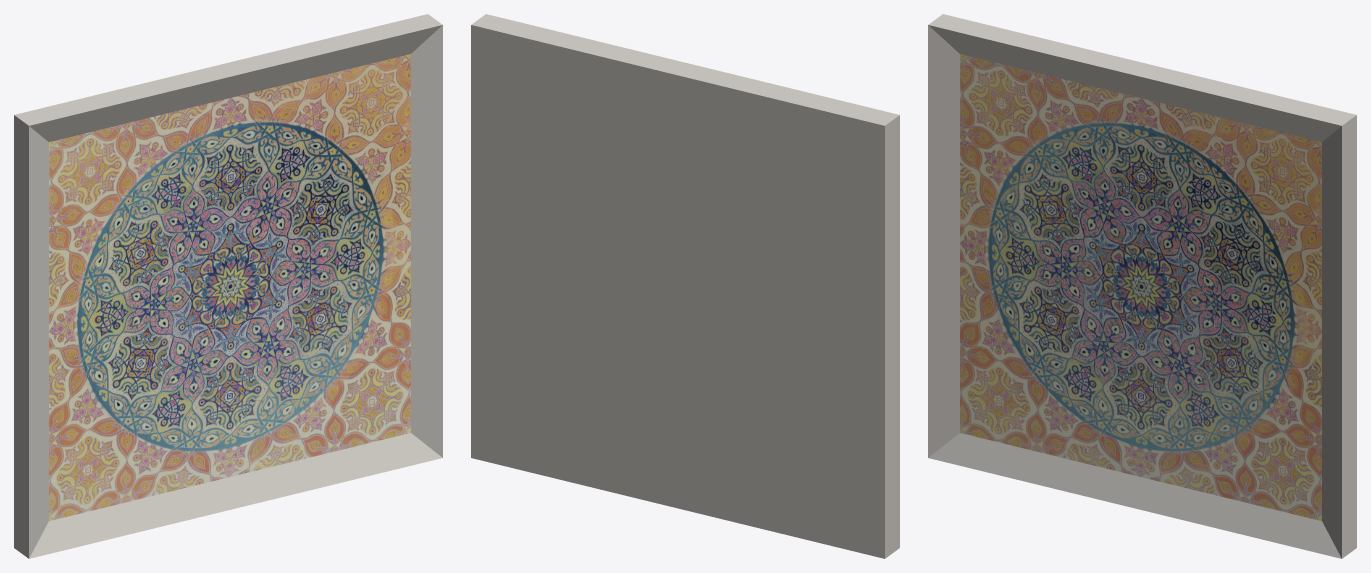
The model's file is peacock-minerva-peacock-sahara-sand-yellow-a2-white-v2.glb.
3 views of the same model, side by side, from view 1: azimuth 30°, elevation 25°; view 2: azimuth 150°, elevation 25°; view 3: azimuth 330°, elevation 25° (orthographic).
Parts seen in each view (by area): view 1: FramedPrint; view 2: FramedPrint; view 3: FramedPrint.
Part boxes in pixels (left/top/right/bottom): FramedPrint: left=14, top=14, right=442, bottom=558; FramedPrint: left=471, top=14, right=899, bottom=558; FramedPrint: left=928, top=14, right=1356, bottom=558.
Size of the model in its own units: 0.48 by 0.48 by 0.03.
Materials: 2 (1 with a texture image).
